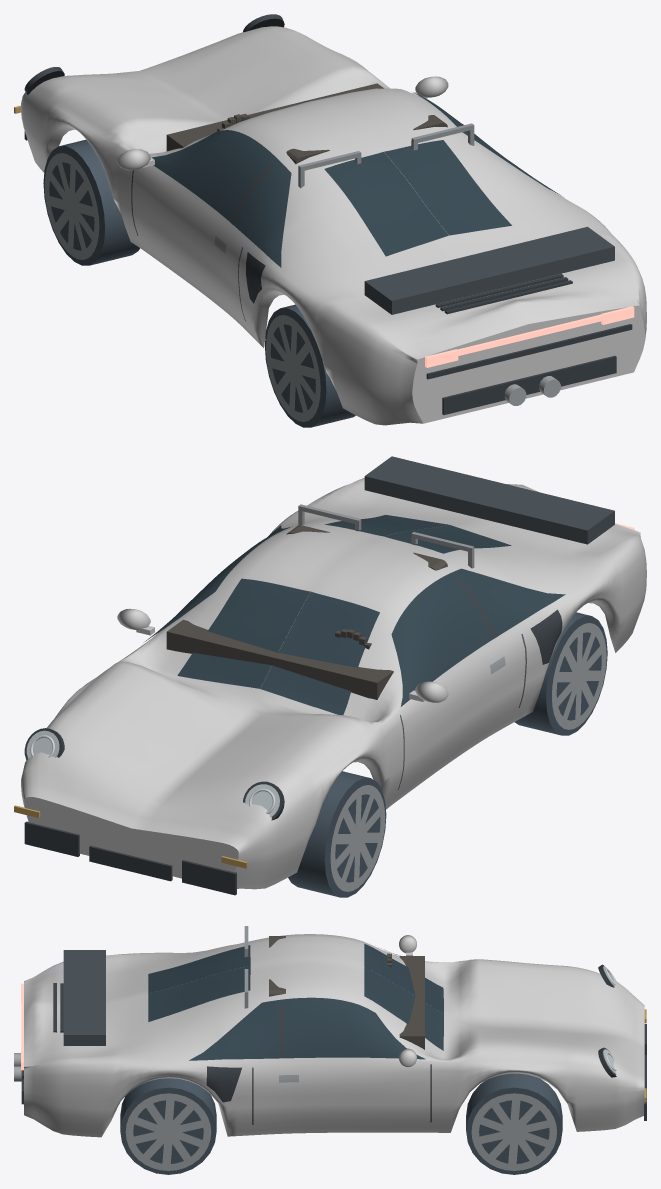
3 views of the same model, one above another, from view 1: azimuth 30°, elevation 25°; view 2: azimuth 150°, elevation 25°; view 3: azimuth 270°, elevation 25° (orthographic). The views are drawn at different scales.
Parts seen in each view (by area): view 1: BodyShell, ActiveRearAero, wheel_fl, wheel_rl, OpenCabin, BrakeLights6; view 2: BodyShell, ActiveRearAero, wheel_fl, OpenCabin, wheel_rl; view 3: BodyShell, wheel_fr, wheel_rr, ActiveRearAero, OpenCabin.
Boxes of the visible parts, <box> form: BodyShell: <box>14,14,646,425</box>; ActiveRearAero: <box>364,226,614,314</box>; wheel_fl: <box>43,139,139,265</box>; wheel_rl: <box>264,304,355,427</box>; OpenCabin: <box>166,83,474,188</box>; BrakeLights6: <box>425,306,634,367</box>; BodyShell: <box>14,477,646,895</box>; ActiveRearAero: <box>364,456,614,544</box>; wheel_fl: <box>288,771,386,897</box>; OpenCabin: <box>166,504,474,699</box>; wheel_rl: <box>514,612,607,735</box>; BodyShell: <box>14,934,646,1137</box>; wheel_fr: <box>466,1073,562,1174</box>; wheel_rr: <box>120,1078,216,1174</box>; ActiveRearAero: <box>63,950,105,1045</box>; OpenCabin: <box>244,926,424,1049</box>.
Bounding box in the file's own units: 2.09 × 1.26 × 4.47.
